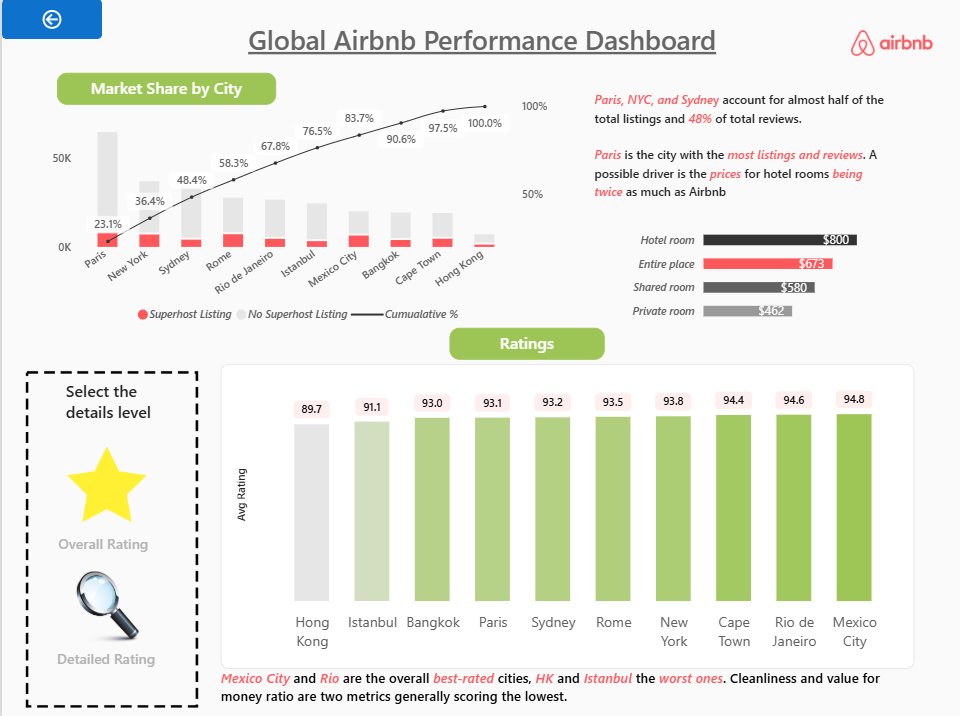

The dashboard page shown, as its layout file describes it:
{"tool":"powerbi","page":{"name":"Duplicate of Overview","canvas":[960,720],"ordinal":1},"visuals":[{"type":"textbox","box":[167.8,22.2,625.3,44.7],"z":0},{"type":"image","box":[836.7,31.1,107.2,25.7],"z":1000},{"type":"textbox","box":[54.7,73.7,218.9,32.4],"z":2000},{"type":"lineStackedColumnComboChart","fields":{"Category":["Listings.city"],"Y":["Listings.Superhost Listing","Listings.No Superhost Listing"],"Y2":["Listings.Cumualative %"]},"box":[33.5,82.6,528.3,261.7],"z":3000},{"type":"barChart","fields":{"Category":["Listings.room_type"],"Y":["Listings.Avg Price"]},"box":[613,204.3,296.7,140],"z":4000},{"type":"textbox","box":[592.9,90.4,296.2,131.2],"z":5000},{"type":"image","box":[23.4,359.6,173.1,360.7],"z":6000},{"type":"actionButton","box":[0,0,100,40],"z":7000},{"type":"textbox","box":[63.3,380,96.7,50],"z":8000},{"type":"image","box":[63.4,441.7,85,87.5],"z":8000,"group":"g1"},{"type":"pivotTable","fields":{"Rows":["Listings.city"],"Values":["Listings.Accuracy","Listings.Communication","Listings.cleaniness","Listings.Location","Listings.Value"]},"box":[218.9,367.4,693.4,302.6],"z":9000},{"type":"image","box":[62.5,572.5,85,72.5],"z":9000,"group":"g3"},{"type":"columnChart","fields":{"Category":["Listings.city"],"Y":["Listings.Avg Rating"]},"box":[218.9,365.1,693.4,304.8],"z":10000},{"type":"textbox","box":[56.7,535,110,30],"z":10003,"group":"g1"},{"type":"textbox","box":[55,650,110,40],"z":10004,"group":"g3"},{"type":"group","id":"g1","title":"Group 1","box":[56.7,441.7,110,123.3],"z":11000},{"type":"group","id":"g2","title":"Group 2","box":[55,572.5,110,117.5],"z":12000},{"type":"group","id":"g3","title":"Group 3","box":[55,572.5,110,117.5],"z":12001,"group":"g2"},{"type":"textbox","box":[448,329,155,32],"z":13000},{"type":"textbox","box":[219,669,703,51],"z":14000}]}

Visuals, with their boxes in screenshot pixels (x1, y1, x2, y2), scaled from the page's 960x720 canvas onto the 960x716 screenshot:
textbox: locate(168, 22, 793, 67)
image: locate(837, 31, 944, 56)
textbox: locate(55, 73, 274, 106)
lineStackedColumnComboChart - Listings.city x Listings.Superhost Listing: locate(34, 82, 562, 342)
barChart - Listings.room_type x Listings.Avg Price: locate(613, 203, 910, 342)
textbox: locate(593, 90, 889, 220)
image: locate(23, 358, 196, 715)
actionButton: locate(0, 0, 100, 40)
textbox: locate(63, 378, 160, 428)
image: locate(63, 439, 148, 526)
pivotTable - Listings.city x Listings.Accuracy: locate(219, 365, 912, 666)
image: locate(62, 569, 148, 641)
columnChart - Listings.city x Listings.Avg Rating: locate(219, 363, 912, 666)
textbox: locate(57, 532, 167, 562)
textbox: locate(55, 646, 165, 686)
"Group 1" group: locate(57, 439, 167, 562)
"Group 2" group: locate(55, 569, 165, 686)
"Group 3" group: locate(55, 569, 165, 686)
textbox: locate(448, 327, 603, 359)
textbox: locate(219, 665, 922, 715)
